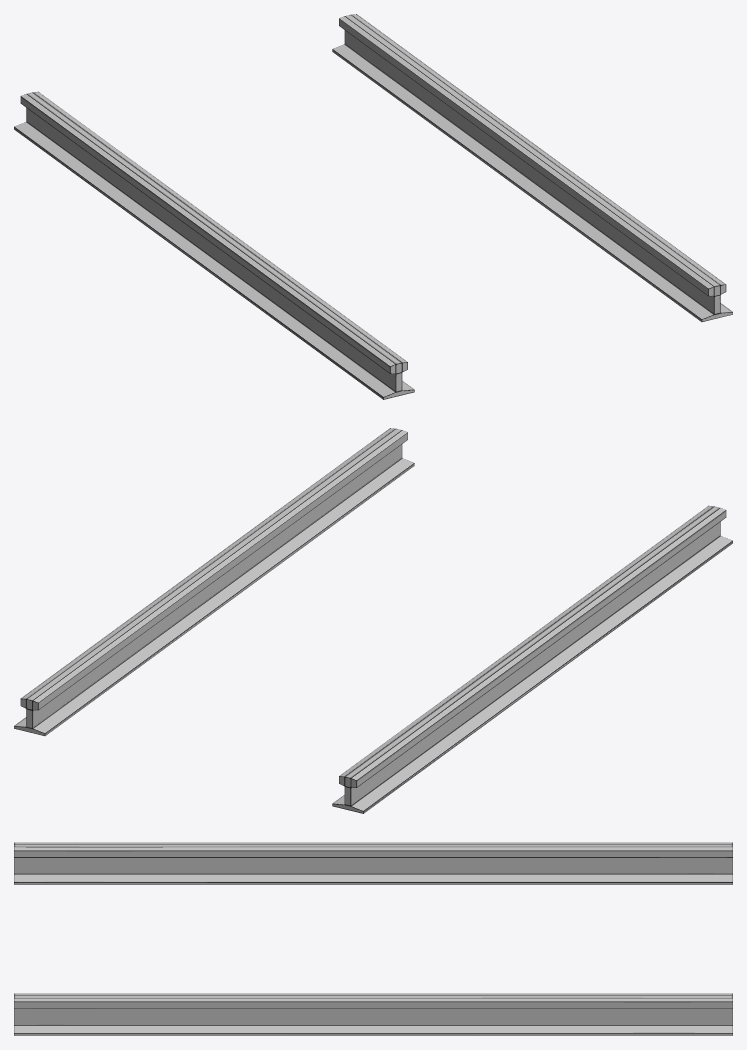
File: Rail2.fbx
3 renders of one model, top to bottom at view 1: azimuth 30°, elevation 25°; view 2: azimuth 150°, elevation 25°; view 3: azimuth 270°, elevation 25°, orthographic. The views are drawn at different scales.
Parts seen in each view (by area): view 1: RailMesh; view 2: RailMesh; view 3: RailMesh.
Boxes of the visible parts, left/top/right/bottom form: RailMesh: left=14, top=14, right=732, bottom=399; RailMesh: left=14, top=428, right=732, bottom=813; RailMesh: left=14, top=842, right=732, bottom=1035.
Bounding box in the file's own units: 605 × 53.84 × 1108.
1 material, 1 textured.
